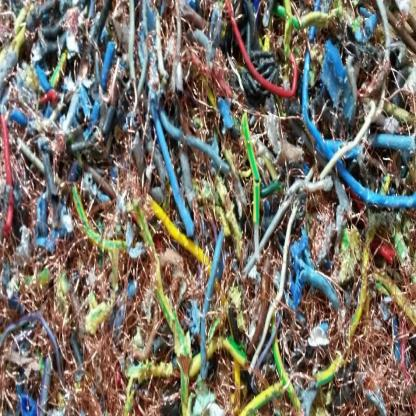wires: (0, 1, 415, 413)
